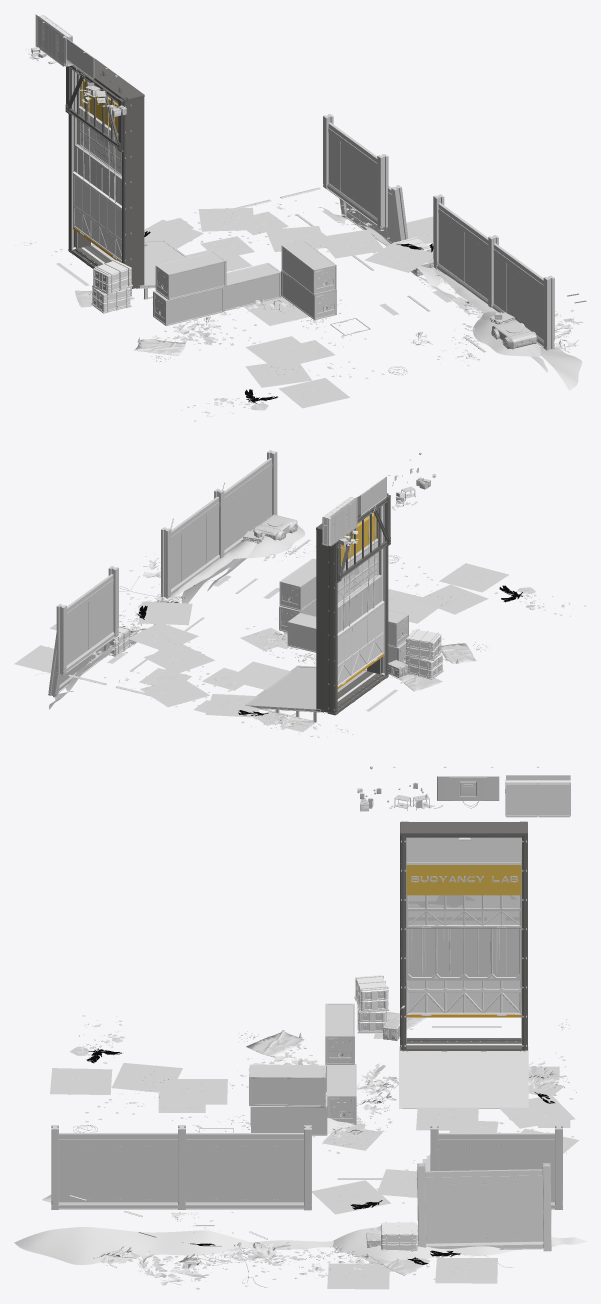
File: cell_166_115.fbx
3 renders of one model, top to bottom at view 1: azimuth 30°, elevation 25°; view 2: azimuth 150°, elevation 25°; view 3: azimuth 270°, elevation 25°, orthographic. The views are drawn at different scales.
Parts seen in each view (by area): view 1: SM_H_Customiz_SlidingDoor_01_Frame.mo.001, SM_H_Fence_SoundproofWall_02.mo.048, SM_H_Fence_SoundproofWall_02.mo.102, SM_H_Fence_SoundproofWall_02.mo.103, SM_H_Customiz_SlidingDoor_01C.mo, SM_H_Industrial_Container_02.mo.106, SM_H_Industrial_Container_02.mo.138, SM_H_Industrial_Container_02.mo.140, SM_H_Industrial_Container_02.mo.105, SM_H_Fence_SoundproofWall_02.mo.047, SM_H_Customiz_SlidingDoor_01A.mo.001, SM_H_Customiz_SlidingDoor_01B.mo.001 (+23 smaller); view 2: SM_H_Customiz_SlidingDoor_01_Frame.mo.001, SM_H_Fence_SoundproofWall_02.mo.103, SM_H_Fence_SoundproofWall_02.mo.048, SM_H_Fence_SoundproofWall_02.mo.102, SM_H_Customiz_SlidingDoor_01C.mo, SM_I_WalkwaySystem_Slope_140_01.mo.001, SM_H_Industrial_Container_02.mo.138, SM_H_Customiz_SlidingDoor_01B.mo.001, SM_H_Customiz_SlidingDoor_01A.mo.001, SM_DECOR_GrassDebris_Less_01_HD.mo.058, SM_DECOR_GrassDebris_Less_01_HD.mo.1004, SM_DECOR_GrassDebris_Less_01_HD.mo.730 (+26 smaller); view 3: SM_H_Customiz_SlidingDoor_01_Frame.mo.001, SM_H_Fence_SoundproofWall_02.mo.047, SM_H_Fence_SoundproofWall_02.mo.102, SM_H_Fence_SoundproofWall_02.mo.103, SM_I_WalkwaySystem_Slope_140_01.mo.001, SM_I_Terrain_Road_Desert_Decal_Sand_02.mo.102, SM_H_Customiz_SlidingDoor_01B.mo.001, SM_H_Fence_SoundproofWall_02.mo.048, SM_H_Customiz_SlidingDoor_01C.mo, SM_H_Customiz_SlidingDoor_01A.mo.001, SM_H_Industrial_Container_02.mo.138, SM_I_Terrain_Road_Desert_Decal_Sand_02.mo.022 (+21 smaller).
Part boxes in pixels (x1,y1,x2,y2): SM_H_Customiz_SlidingDoor_01_Frame.mo.001: (65, 57, 144, 288); SM_H_Fence_SoundproofWall_02.mo.048: (326, 122, 388, 228); SM_H_Fence_SoundproofWall_02.mo.102: (492, 243, 554, 350); SM_H_Fence_SoundproofWall_02.mo.103: (436, 203, 498, 307); SM_H_Customiz_SlidingDoor_01C.mo: (73, 171, 121, 262); SM_H_Industrial_Container_02.mo.106: (155, 251, 226, 299); SM_H_Industrial_Container_02.mo.138: (281, 240, 336, 295); SM_H_Industrial_Container_02.mo.140: (224, 262, 281, 311); SM_H_Industrial_Container_02.mo.105: (153, 286, 224, 325); SM_H_Fence_SoundproofWall_02.mo.047: (345, 185, 408, 246); SM_H_Customiz_SlidingDoor_01A.mo.001: (78, 106, 121, 176); SM_H_Customiz_SlidingDoor_01B.mo.001: (75, 144, 121, 205); SM_H_Customiz_SlidingDoor_01_Frame.mo.001: (316, 493, 390, 715); SM_H_Fence_SoundproofWall_02.mo.103: (171, 488, 224, 596); SM_H_Fence_SoundproofWall_02.mo.048: (66, 566, 118, 672); SM_H_Fence_SoundproofWall_02.mo.102: (224, 450, 277, 554); SM_H_Customiz_SlidingDoor_01C.mo: (337, 600, 384, 689); SM_I_WalkwaySystem_Slope_140_01.mo.001: (245, 665, 366, 722); SM_H_Industrial_Container_02.mo.138: (279, 558, 316, 610); SM_H_Customiz_SlidingDoor_01B.mo.001: (337, 575, 382, 632); SM_H_Customiz_SlidingDoor_01A.mo.001: (337, 538, 379, 605); SM_DECOR_GrassDebris_Less_01_HD.mo.058: (439, 563, 509, 592); SM_DECOR_GrassDebris_Less_01_HD.mo.1004: (417, 584, 488, 614); SM_DECOR_GrassDebris_Less_01_HD.mo.730: (140, 678, 209, 707); SM_H_Customiz_SlidingDoor_01_Frame.mo.001: (400, 821, 527, 1051); SM_H_Fence_SoundproofWall_02.mo.047: (417, 1163, 544, 1250); SM_H_Fence_SoundproofWall_02.mo.102: (51, 1125, 177, 1209); SM_H_Fence_SoundproofWall_02.mo.103: (178, 1125, 303, 1209); SM_I_WalkwaySystem_Slope_140_01.mo.001: (399, 1046, 528, 1108); SM_I_Terrain_Road_Desert_Decal_Sand_02.mo.102: (14, 1227, 252, 1264); SM_H_Customiz_SlidingDoor_01B.mo.001: (406, 928, 521, 980); SM_H_Fence_SoundproofWall_02.mo.048: (430, 1125, 554, 1209); SM_H_Customiz_SlidingDoor_01C.mo: (406, 980, 521, 1017); SM_H_Customiz_SlidingDoor_01A.mo.001: (406, 895, 521, 928); SM_H_Industrial_Container_02.mo.138: (249, 1064, 326, 1106); SM_I_Terrain_Road_Desert_Decal_Sand_02.mo.022: (332, 1227, 516, 1261).
Size of the model in its own units: 45.62 by 27.8 by 46.11.
